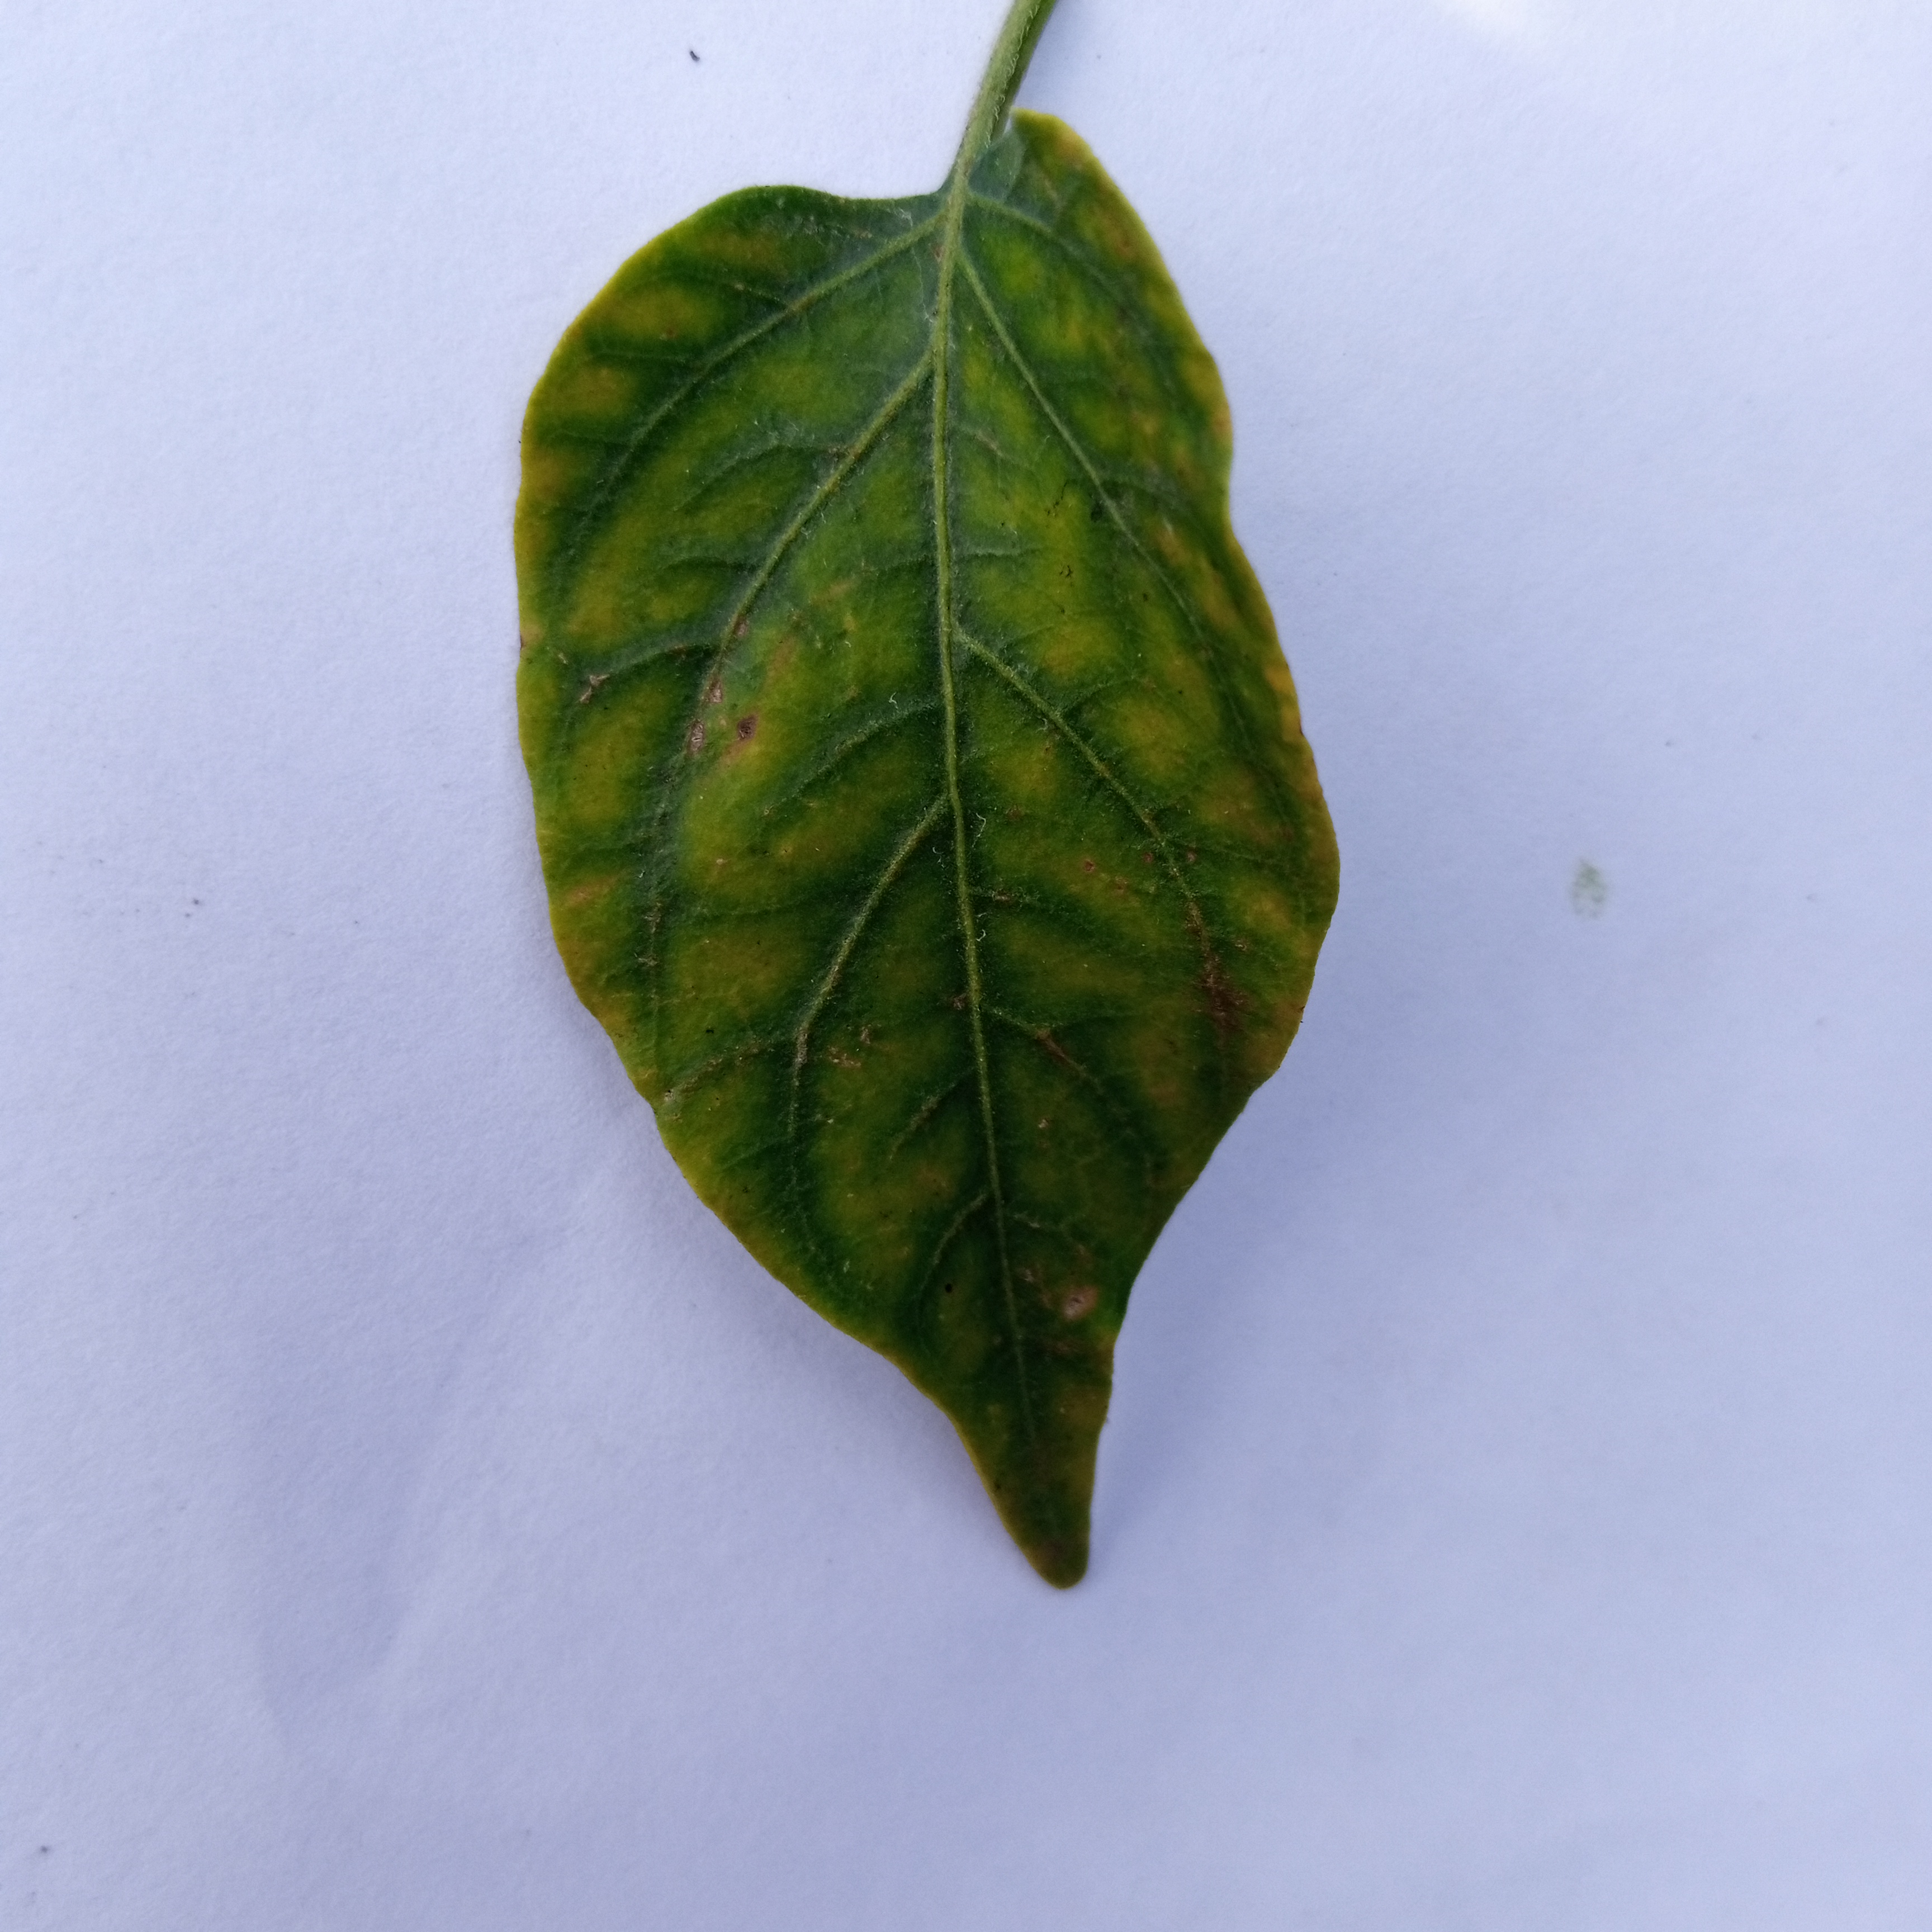Leaf: (354, 94, 1387, 1642)
